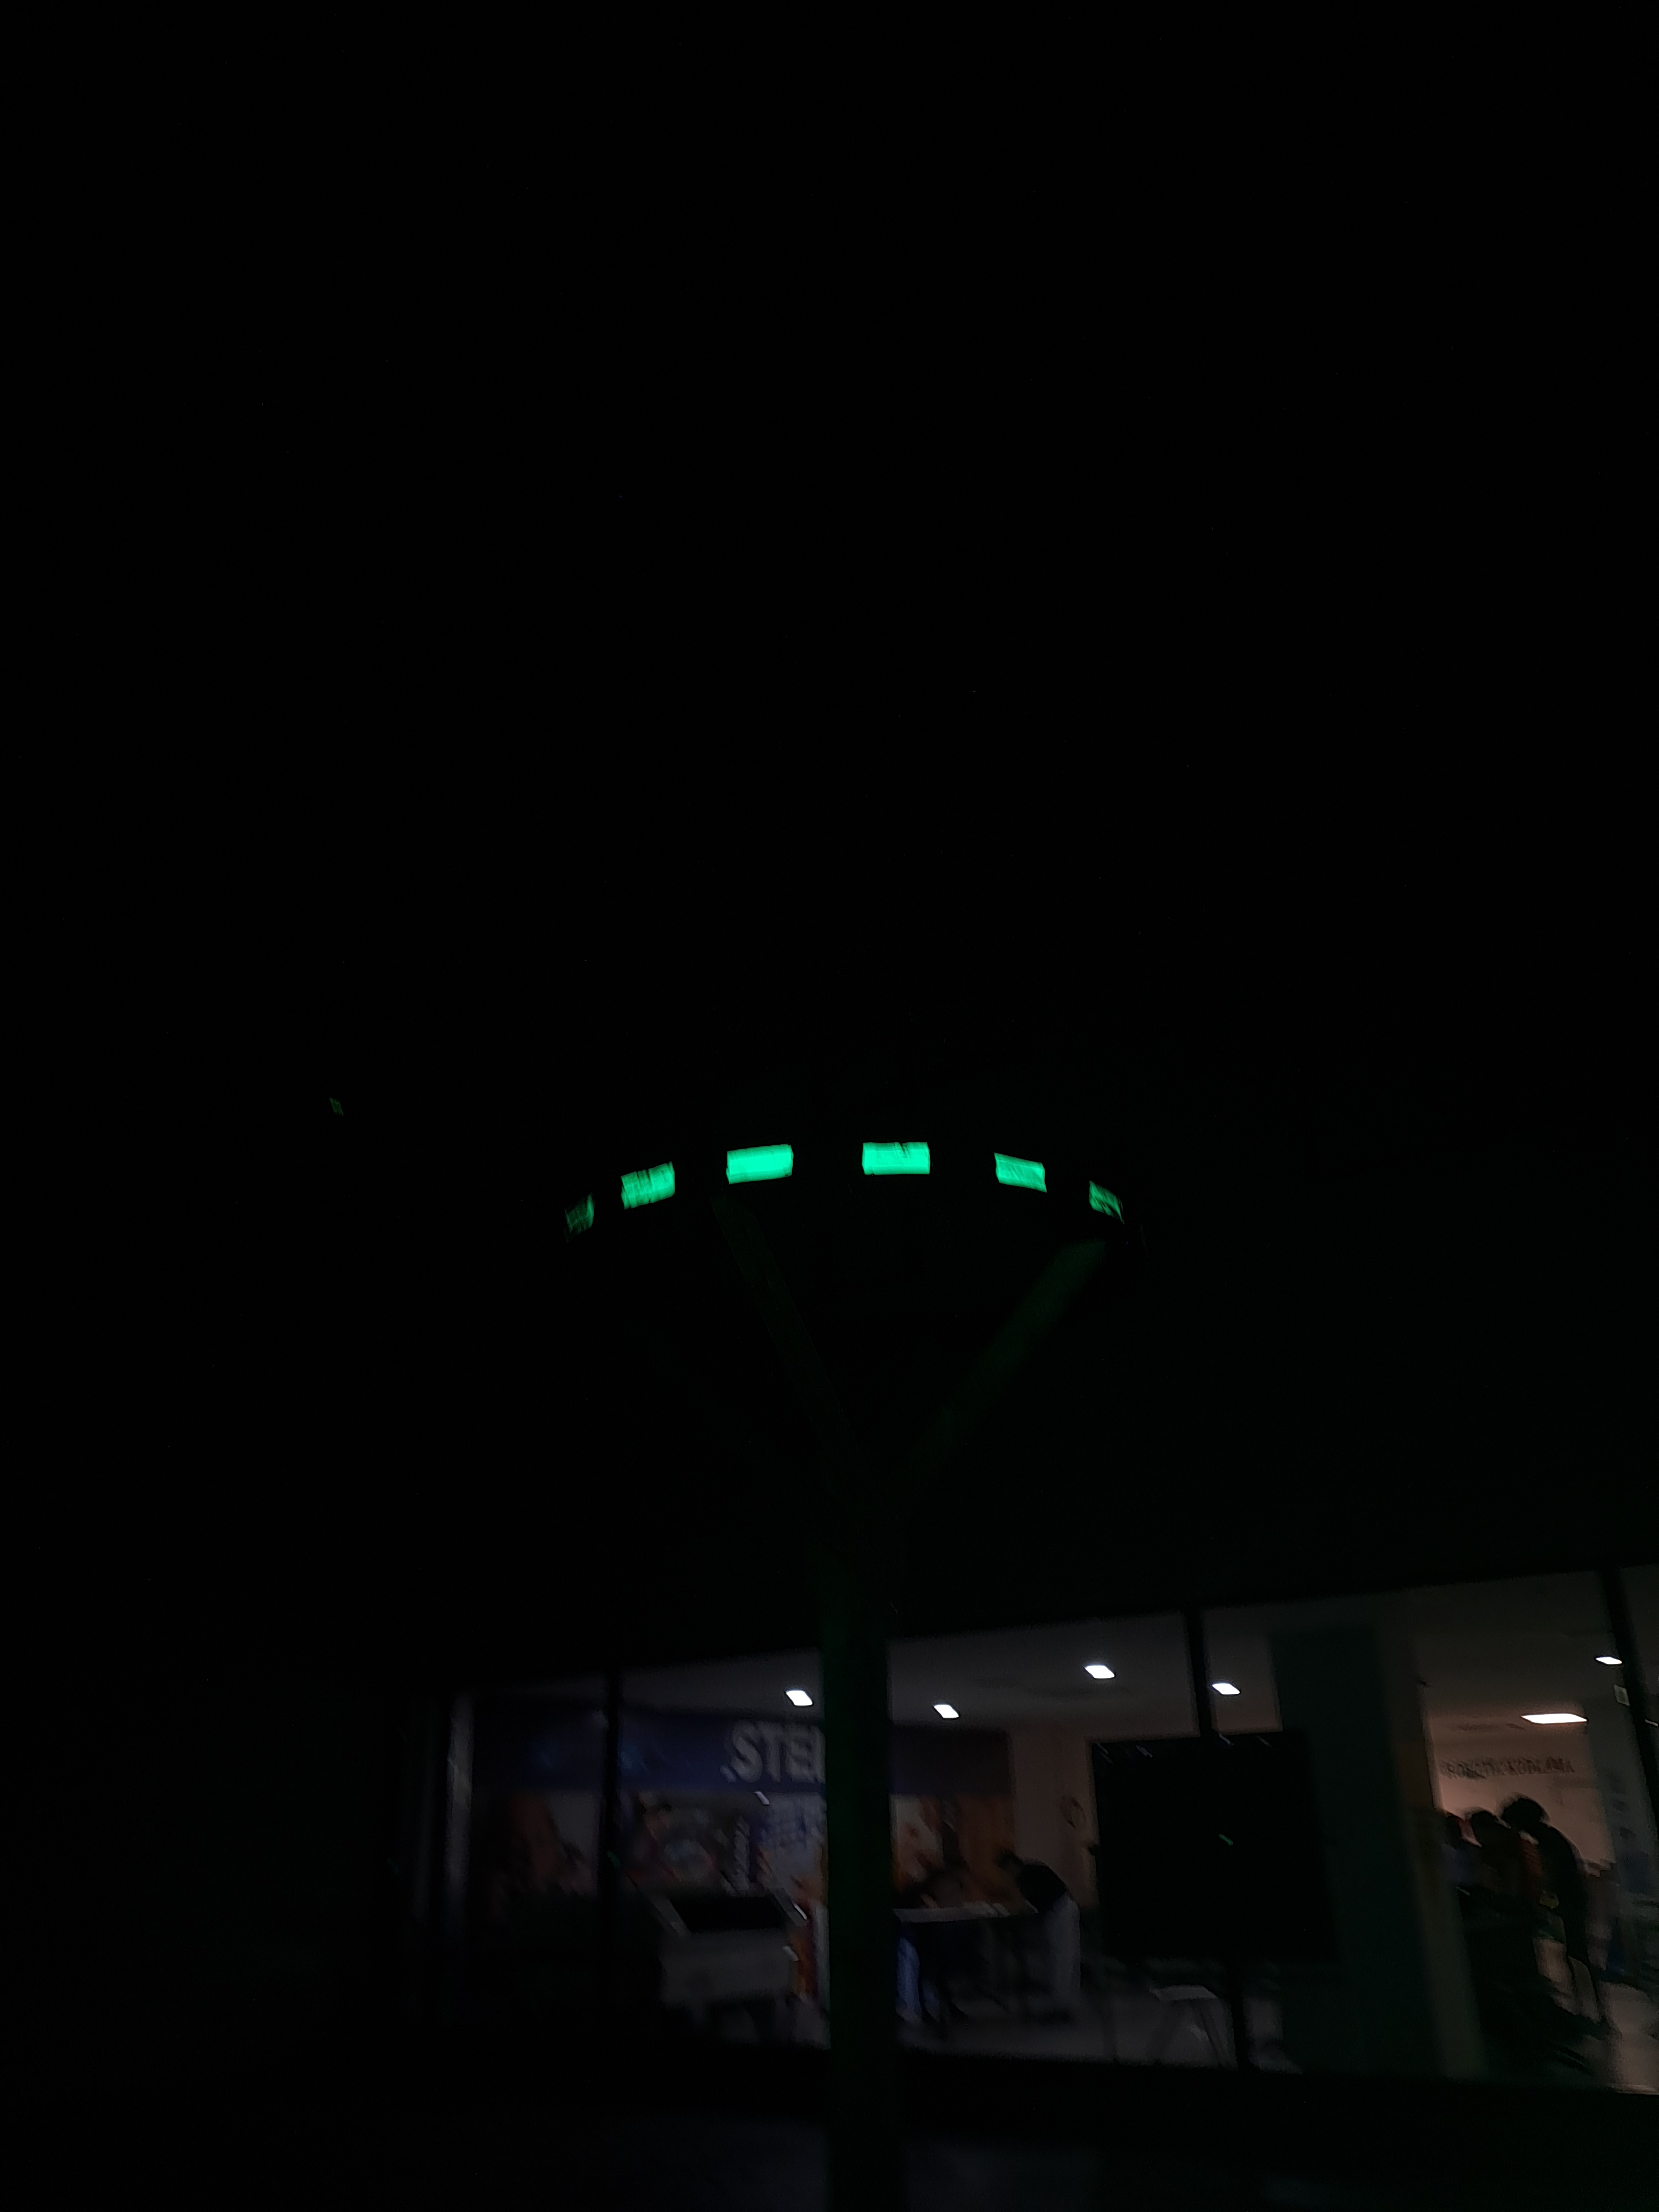hoop: (559, 1139, 1131, 1242)
